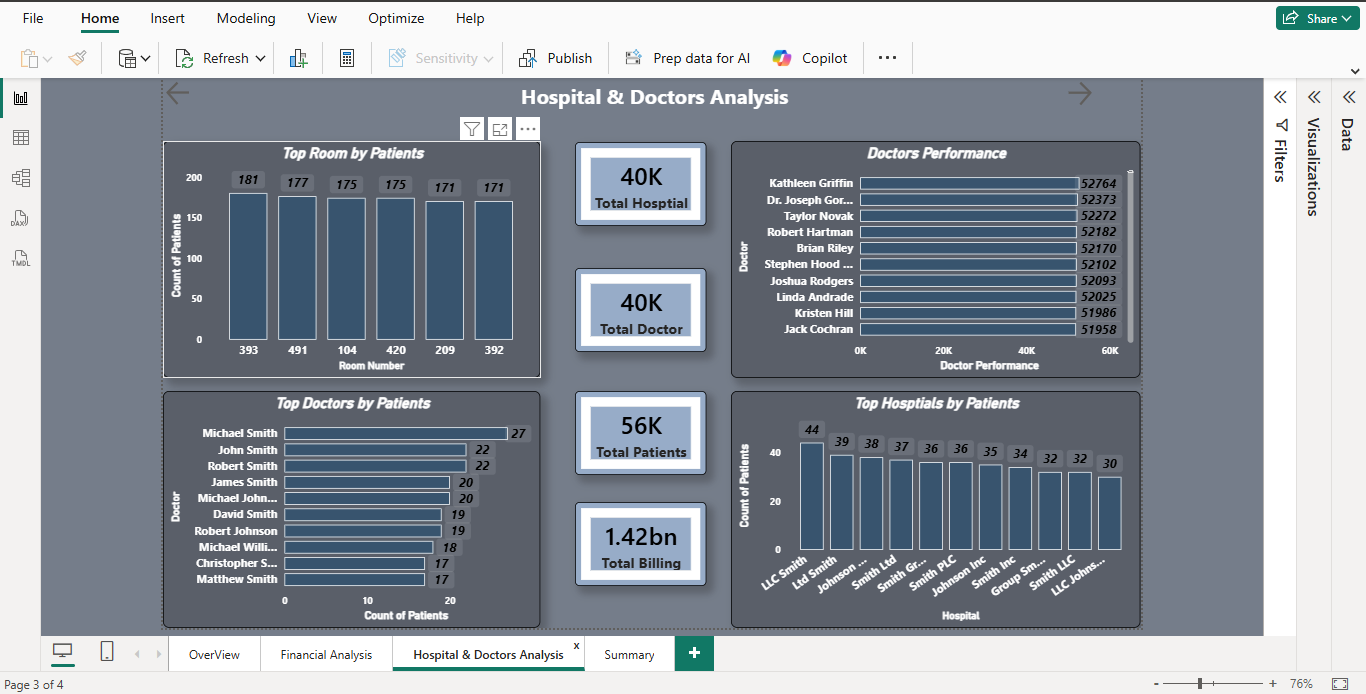

Layout of this report page (visuals, bound fields, positions):
{"tool":"powerbi","page":{"name":" Hospital & Doctors Analysis","canvas":[1280,720],"ordinal":2},"visuals":[{"type":"textbox","box":[0,0,1279.7,82.6],"z":0},{"type":"clusteredBarChart","title":"Top Doctors by Patients","fields":{"Category":["healthcare_dataset.Doctor"],"Y":["CountNonNull(healthcare_dataset.Patients)"]},"box":[0,410.1,494.2,310.1],"z":1000},{"type":"clusteredColumnChart","title":"Top Hosptials by Patients","fields":{"Category":["healthcare_dataset.Hospital"],"Y":["CountNonNull(healthcare_dataset.Patients)"]},"box":[743.5,410.1,536.2,310.1],"z":2000},{"type":"clusteredColumnChart","title":"Top Room by Patients","fields":{"Y":["CountNonNull(healthcare_dataset.Patients)"],"Category":["healthcare_dataset.Room Number"]},"box":[0,82.6,494.2,310.1],"z":3000},{"type":"clusteredBarChart","title":" Doctors Performance","fields":{"Category":["healthcare_dataset.Doctor"],"Y":["healthcare_dataset.Doctor Performance"]},"box":[743.5,82.6,536.2,310.1],"z":4000},{"type":"cardVisual","fields":{"Data":["healthcare_dataset.Total Doctor"]},"box":[539.1,249.3,172.5,110.1],"z":5000},{"type":"cardVisual","fields":{"Data":["healthcare_dataset.Total Hosptial"]},"box":[539.1,84.1,172.5,110.1],"z":6000},{"type":"cardVisual","fields":{"Data":["healthcare_dataset.Total Patients"]},"box":[539.1,410.1,172.5,110.1],"z":7000},{"type":"cardVisual","fields":{"Data":["healthcare_dataset.Total Billing"]},"box":[539.1,555.1,172.5,110.1],"z":8000},{"type":"actionButton","box":[0,0,100,40],"z":9000},{"type":"actionButton","box":[1179.7,0,100,40.6],"z":14000}]}

Visuals, with their boxes on the page's 1280x720 design canvas (x1, y1, x2, y2). These are canvas units, not pixel positions in the 1366x694 screenshot, which may show the page scaled, cropped or inside an application window:
textbox: 0 0 1280 83
"Top Doctors by Patients" clusteredBarChart: 0 410 494 720
"Top Hosptials by Patients" clusteredColumnChart: 744 410 1280 720
"Top Room by Patients" clusteredColumnChart: 0 83 494 393
" Doctors Performance" clusteredBarChart: 744 83 1280 393
cardVisual - healthcare_dataset.Total Doctor: 539 249 712 359
cardVisual - healthcare_dataset.Total Hosptial: 539 84 712 194
cardVisual - healthcare_dataset.Total Patients: 539 410 712 520
cardVisual - healthcare_dataset.Total Billing: 539 555 712 665
actionButton: 0 0 100 40
actionButton: 1180 0 1280 41
